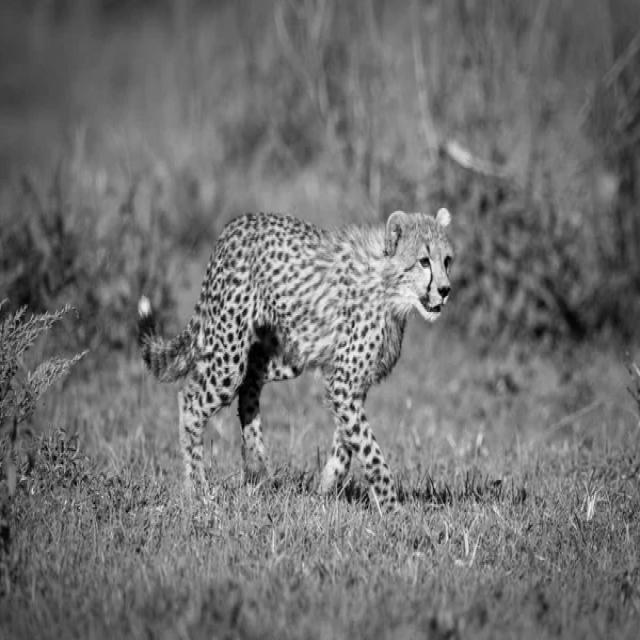Animal: (138, 208, 453, 514)
